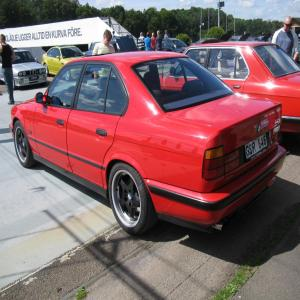Vehicle-registration-plate: (245, 135, 269, 162)
